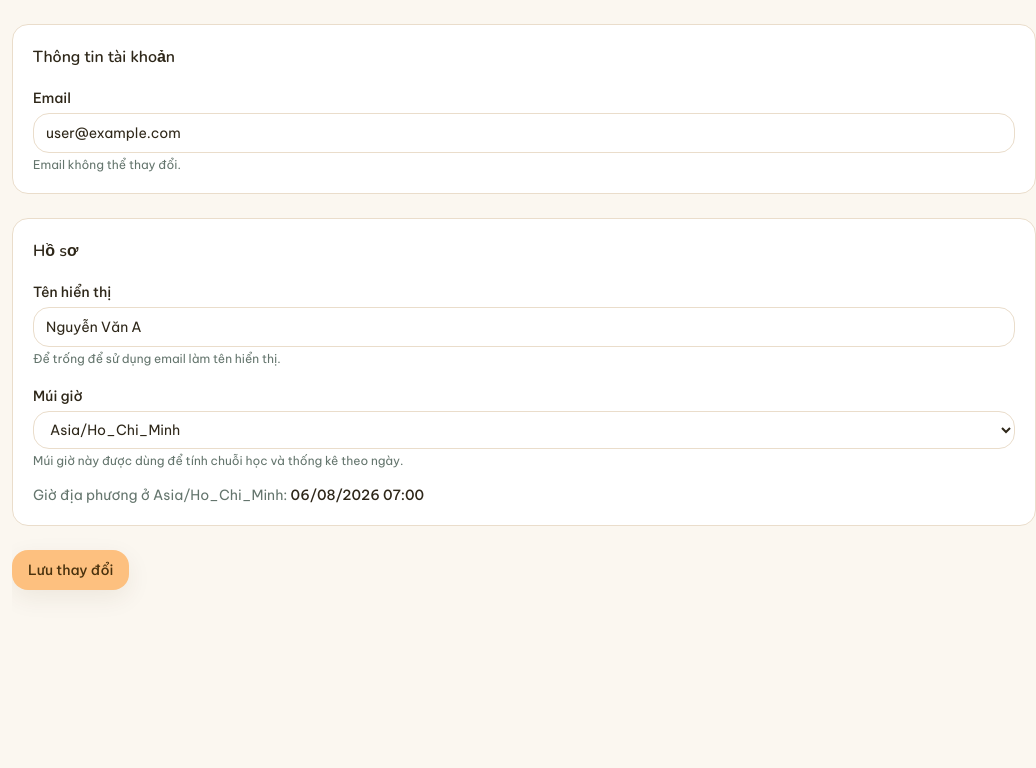
it: ProfileSettingsForm › updates the local-time preview when the timezone changes
Check: the text "Giờ địa phương ở Asia/Ho_Chi_Minh: 06/08/2026 07:00" is shown, box [33,486,424,504]
Select "Pacific/Pago_Pago" in the dropdown labelled "Múi giờ" at (524, 430), box [33,411,1015,449]
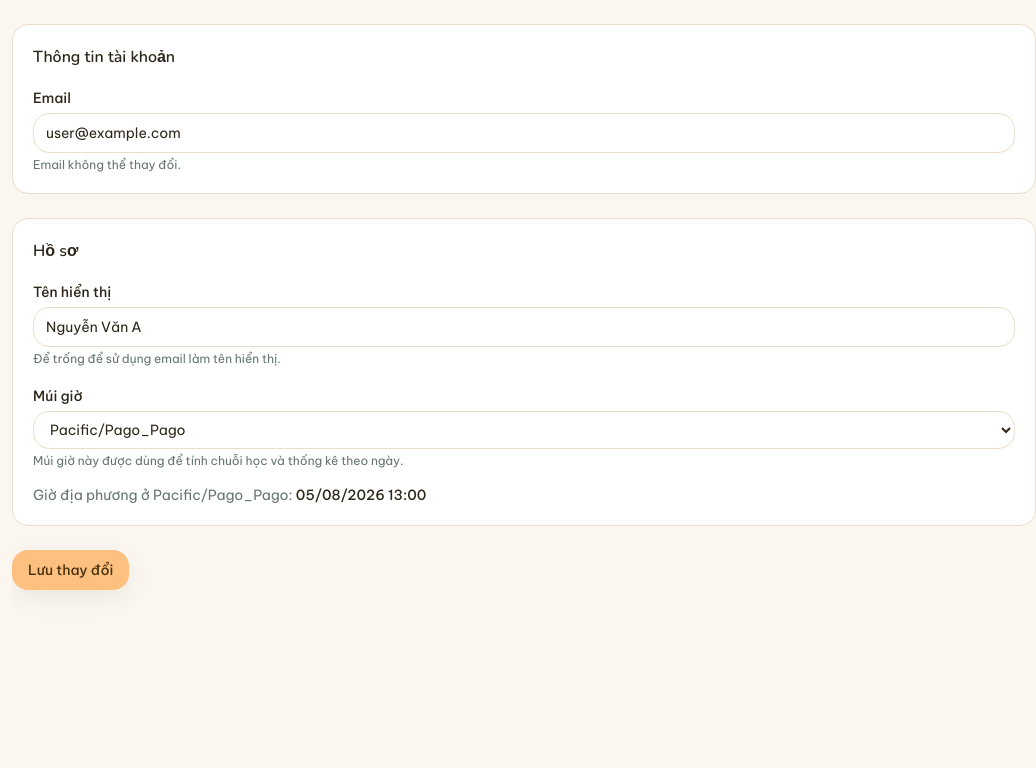
Check: the text "Giờ địa phương ở Pacific/Pago_Pago: 05/08/2026 13:00" is shown, box [33,486,426,504]
